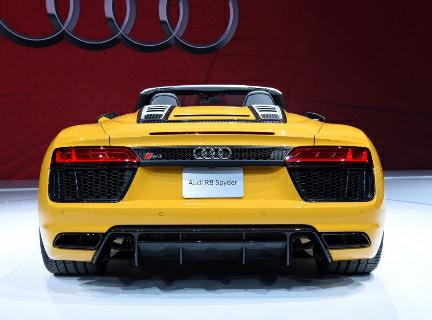奥迪-RS4: (34, 80, 391, 289)
